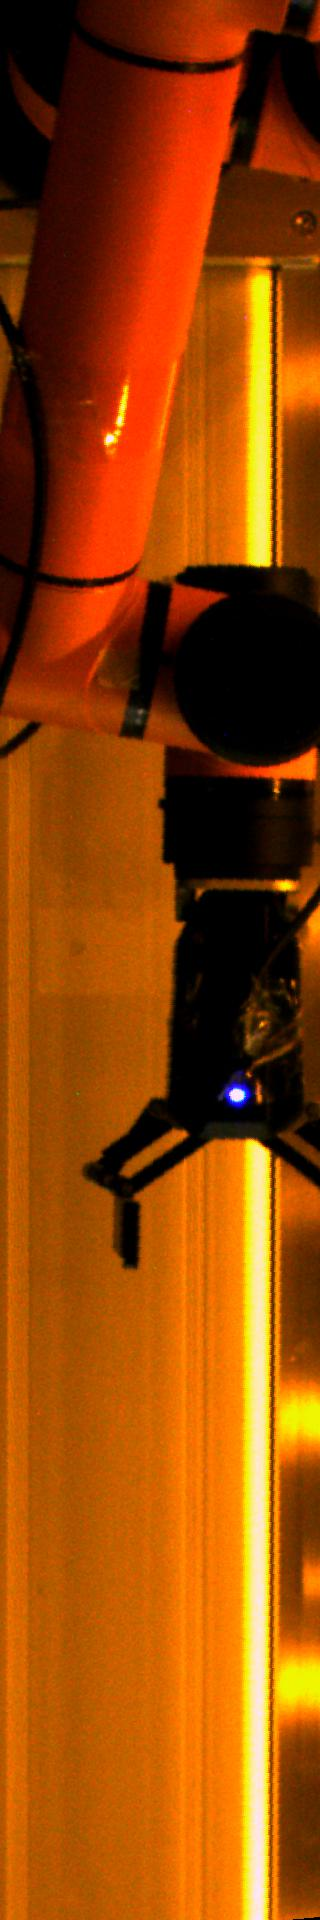keyPoint_1: (222, 1078, 253, 1107)
